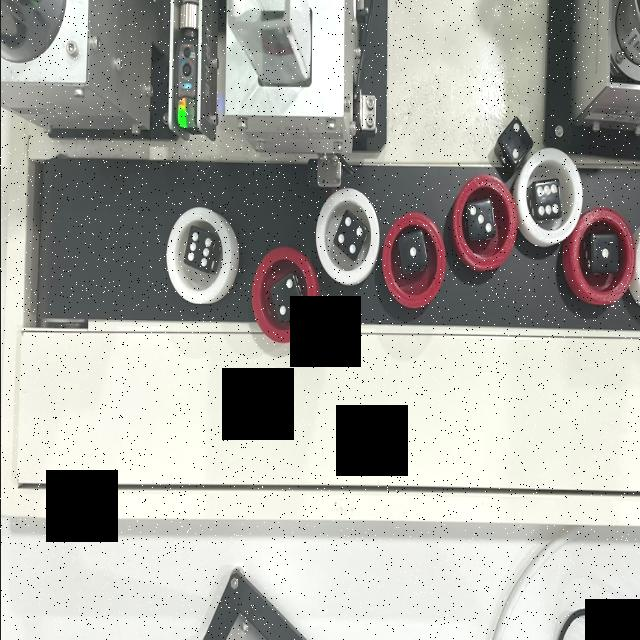DICE1: (588, 232, 616, 266), (401, 237, 423, 270)
DICE2: (500, 118, 524, 164), (272, 276, 298, 318)
DICE3: (464, 190, 494, 240)
DICE4: (331, 214, 363, 258)
DICE6: (530, 176, 558, 220), (184, 226, 212, 268)
RedChip: (452, 173, 518, 274), (251, 250, 317, 347), (570, 208, 632, 304), (382, 216, 444, 308)
WhiteChip: (165, 206, 239, 306), (513, 146, 582, 243), (316, 190, 380, 286)
